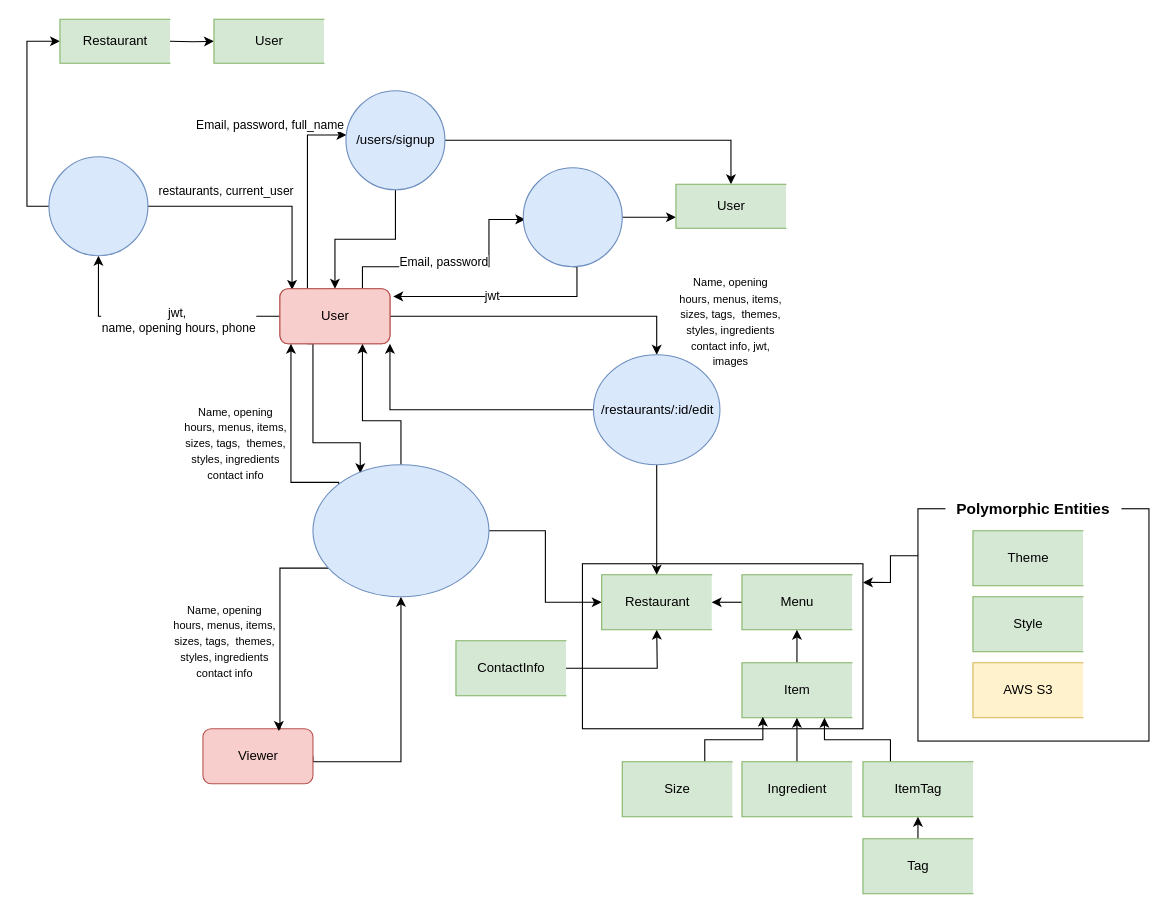
Image size: 1168x913. Some labels were removed from this diagram. Each missing label, with the centre of its shape:
/restaurants: point (98, 206)
/users/login: point (572, 217)
:restaurantName.themenu: point (400, 530)
